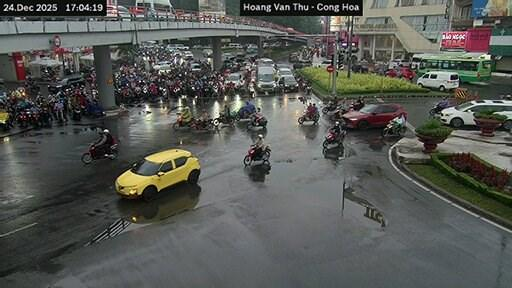motorbike: (80, 144, 117, 162), (243, 144, 268, 165), (323, 130, 345, 147), (381, 122, 406, 135), (297, 111, 319, 124), (172, 115, 192, 129), (428, 102, 448, 116), (192, 118, 214, 130), (214, 113, 233, 125), (0, 111, 12, 130), (246, 117, 265, 129), (329, 109, 346, 120), (39, 108, 50, 124), (236, 107, 249, 120), (30, 112, 41, 126), (16, 112, 27, 126), (71, 106, 80, 120), (322, 103, 336, 112), (304, 82, 310, 94), (249, 85, 255, 97)
